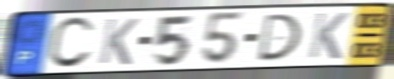5: (199, 11, 247, 68), (149, 13, 197, 68)
C: (45, 15, 97, 72)
D: (255, 12, 304, 63)
K: (96, 17, 141, 67), (306, 11, 351, 61)
